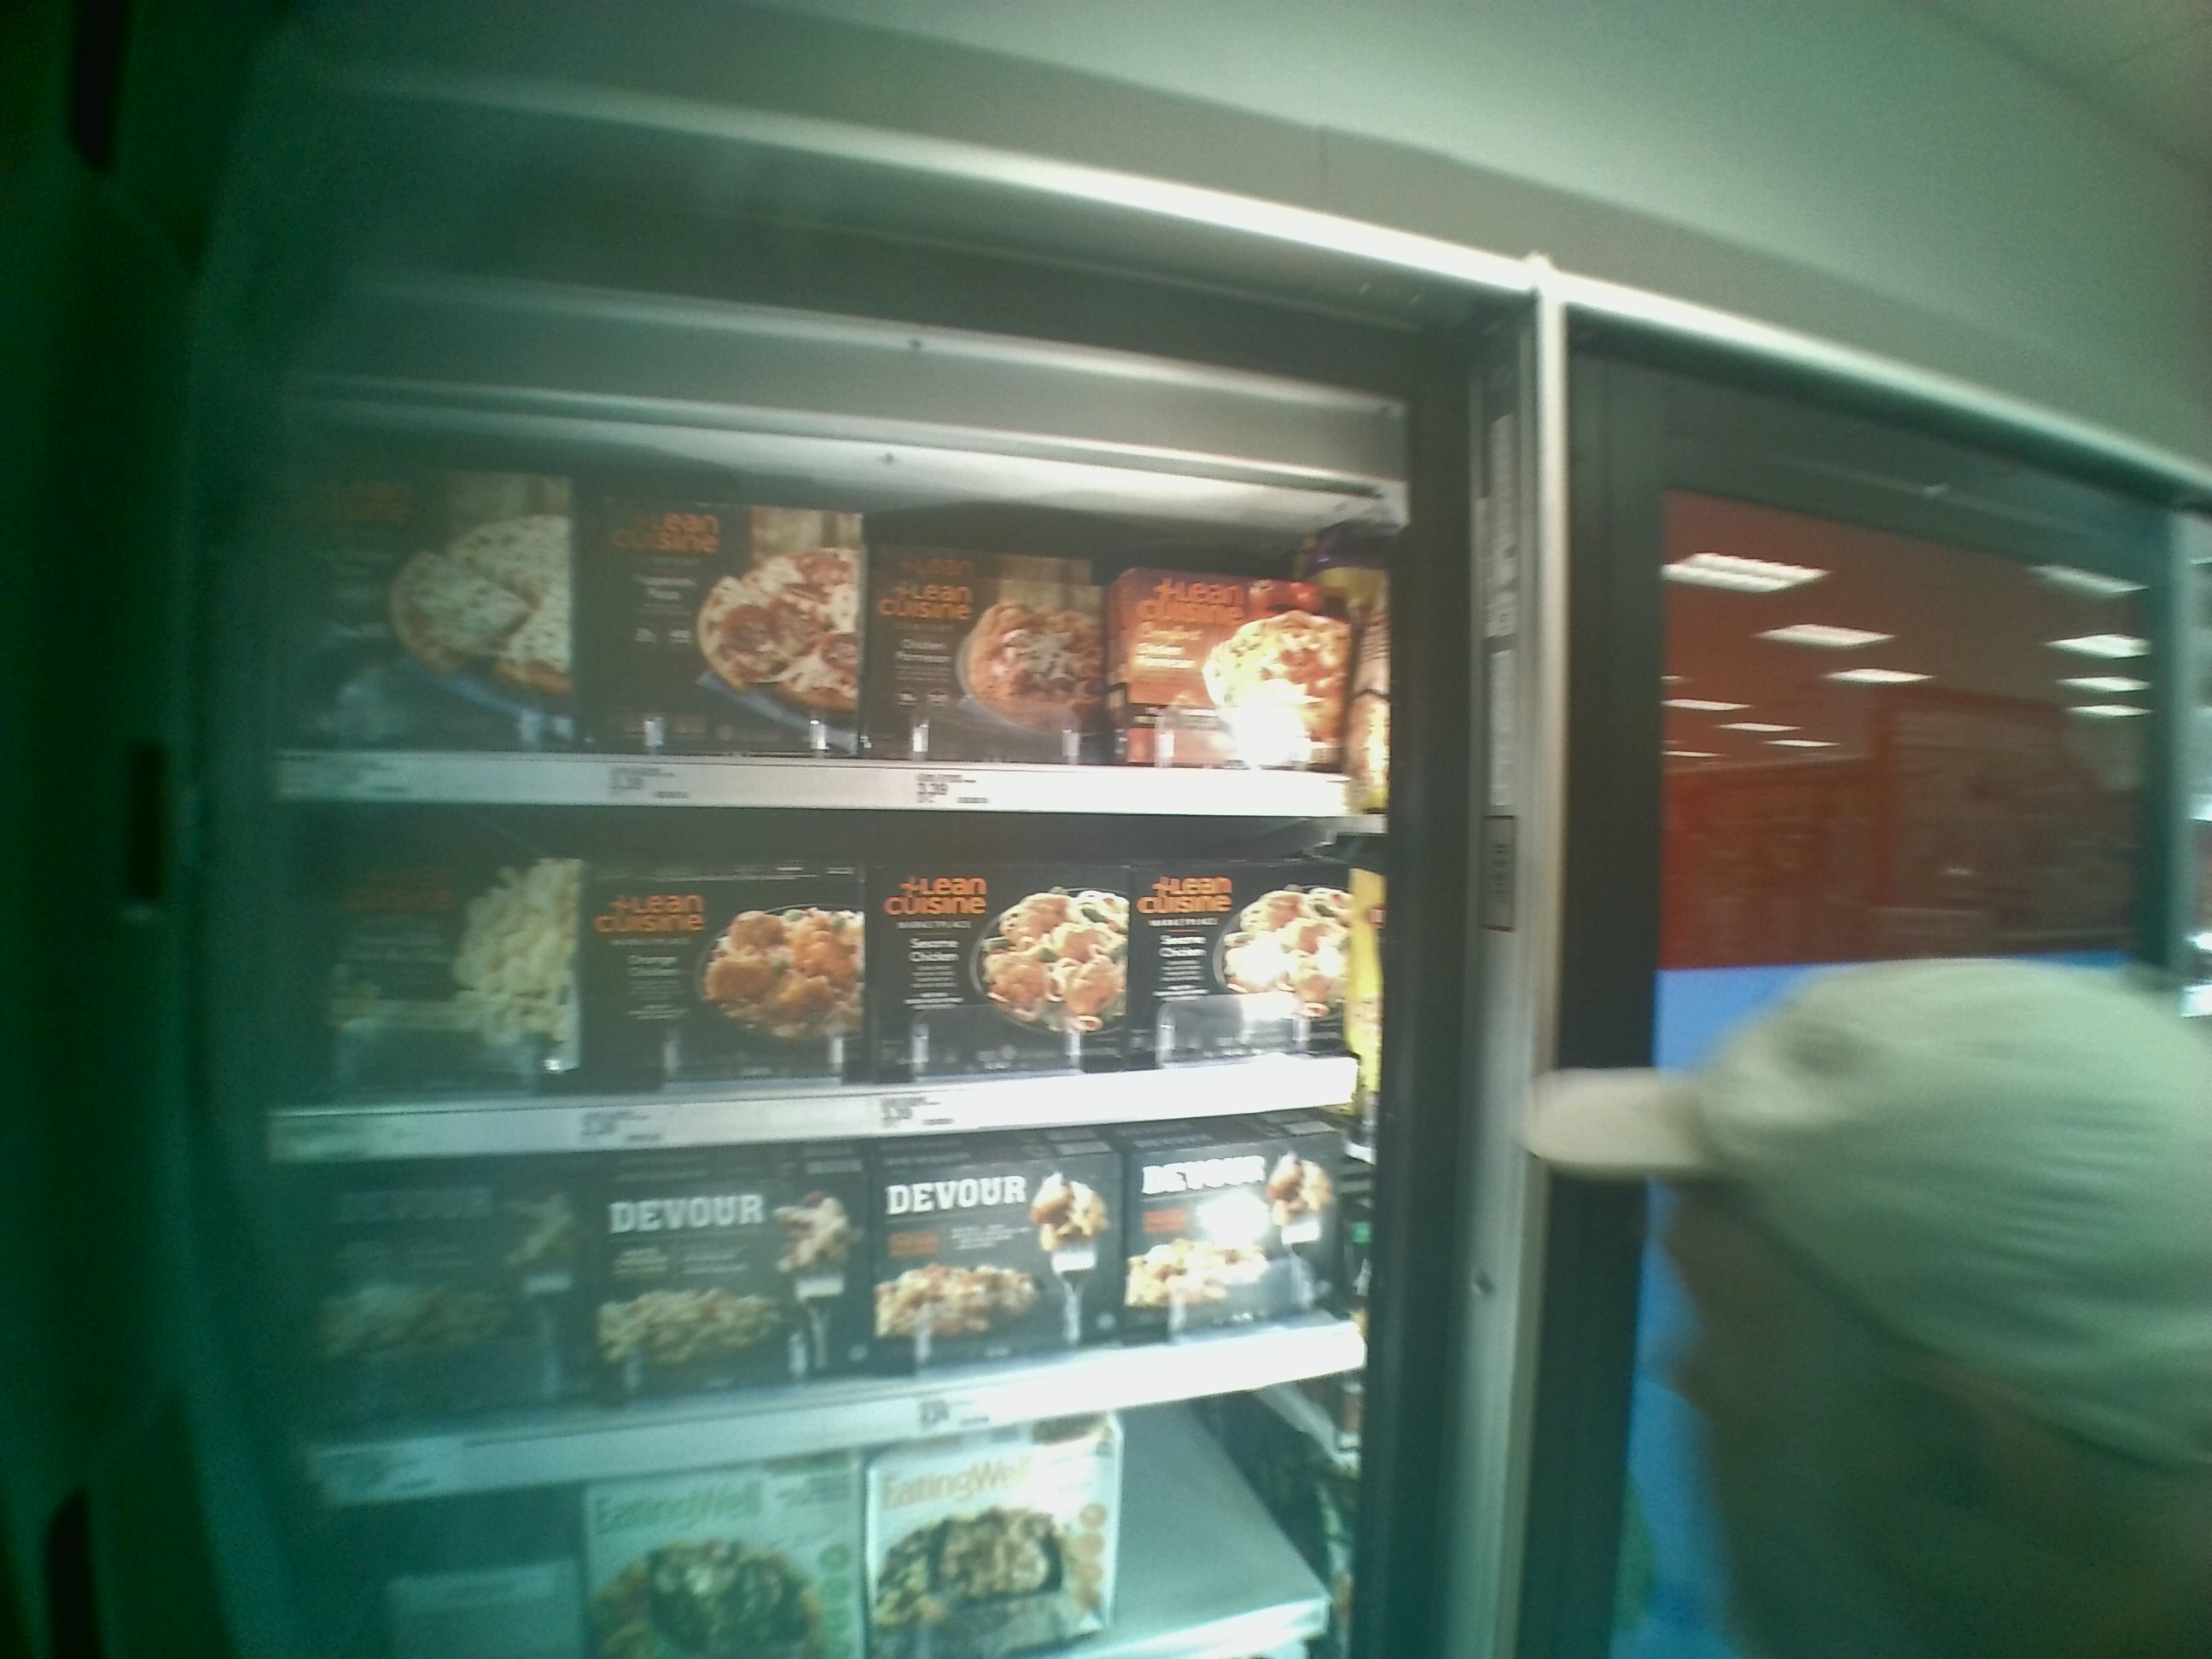shelf: (263, 403, 1371, 814), (273, 793, 1383, 1173)
